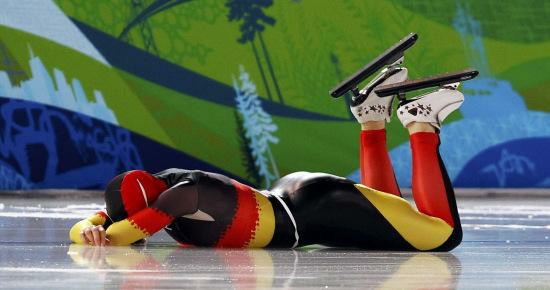fall: (70, 32, 483, 255)
